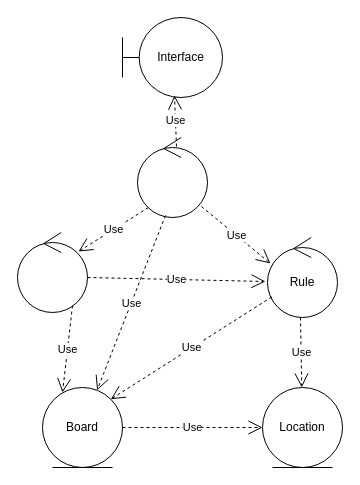
Some shapes in this 360 by 485 pixel diagram are drawn without their labels. Here are the shapes that lost their labels. From the top down, the centre of each, then its label:
At [172,177]: "Manager".
At [52,272]: "Algorithm".
